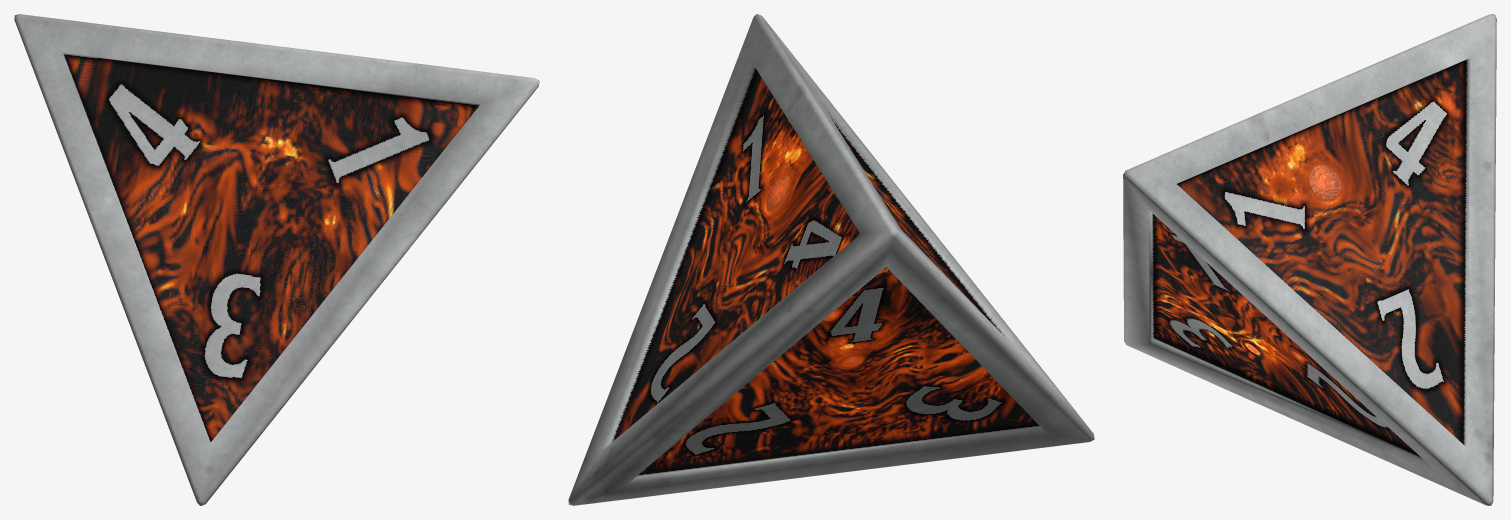
3 renders of one model, left to right at view 1: azimuth 30°, elevation 25°; view 2: azimuth 150°, elevation 25°; view 3: azimuth 270°, elevation 25°, orthographic. The views are drawn at different scales.
Parts seen in each view (by area): view 1: dice_4; view 2: dice_4; view 3: dice_4.
Boxes of the visible parts, <box> form: dice_4: <box>14,14,539,505</box>; dice_4: <box>568,14,1094,505</box>; dice_4: <box>1123,14,1496,505</box>.
Size of the model in its own units: 1.38 by 1.38 by 1.37.
1 material, 1 textured.
